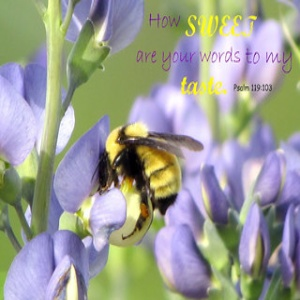bee: (98, 120, 204, 249)
